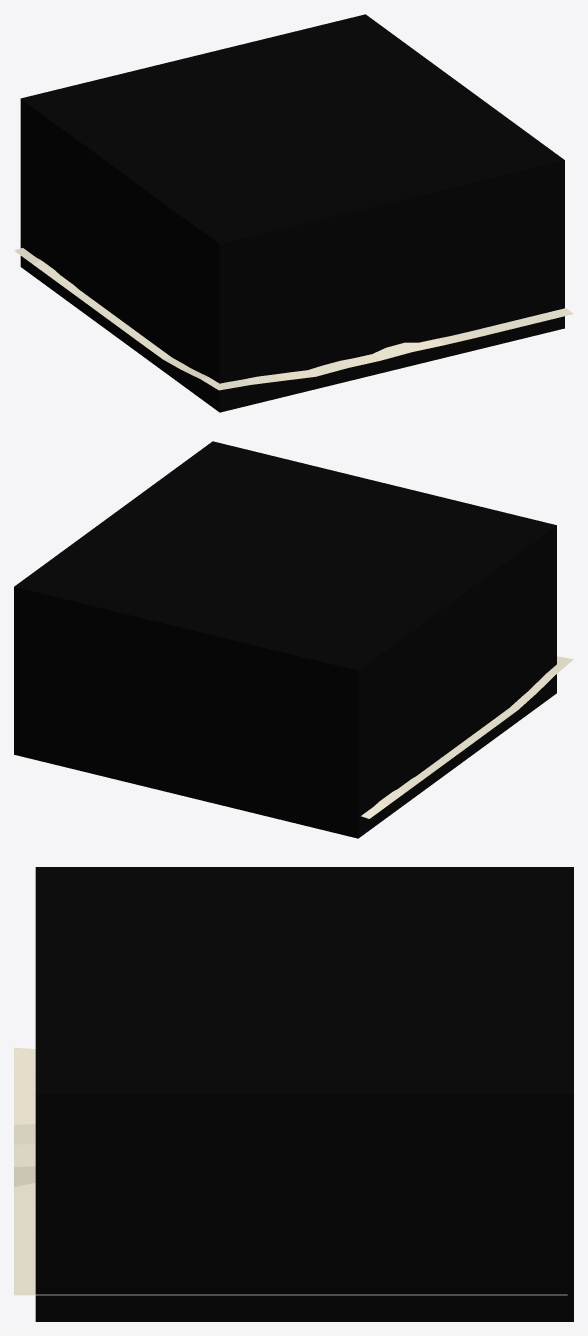
The model's file is christmas.fbx.
3 views of the same model, one above another, from view 1: azimuth 30°, elevation 25°; view 2: azimuth 150°, elevation 25°; view 3: azimuth 270°, elevation 25° (orthographic). The views are drawn at different scales.
Visible parts, largest first — view 1: SkyBox, Snow; view 2: SkyBox, Snow; view 3: SkyBox, Snow.
Part boxes in pixels (x1,y1,x2,y2): SkyBox: (20, 14, 564, 412); Snow: (14, 248, 573, 390); SkyBox: (14, 441, 556, 838); Snow: (361, 656, 573, 818); SkyBox: (35, 867, 573, 1321); Snow: (14, 1047, 567, 1295).
Size of the model in its own units: 3710 by 1681 by 3752.
